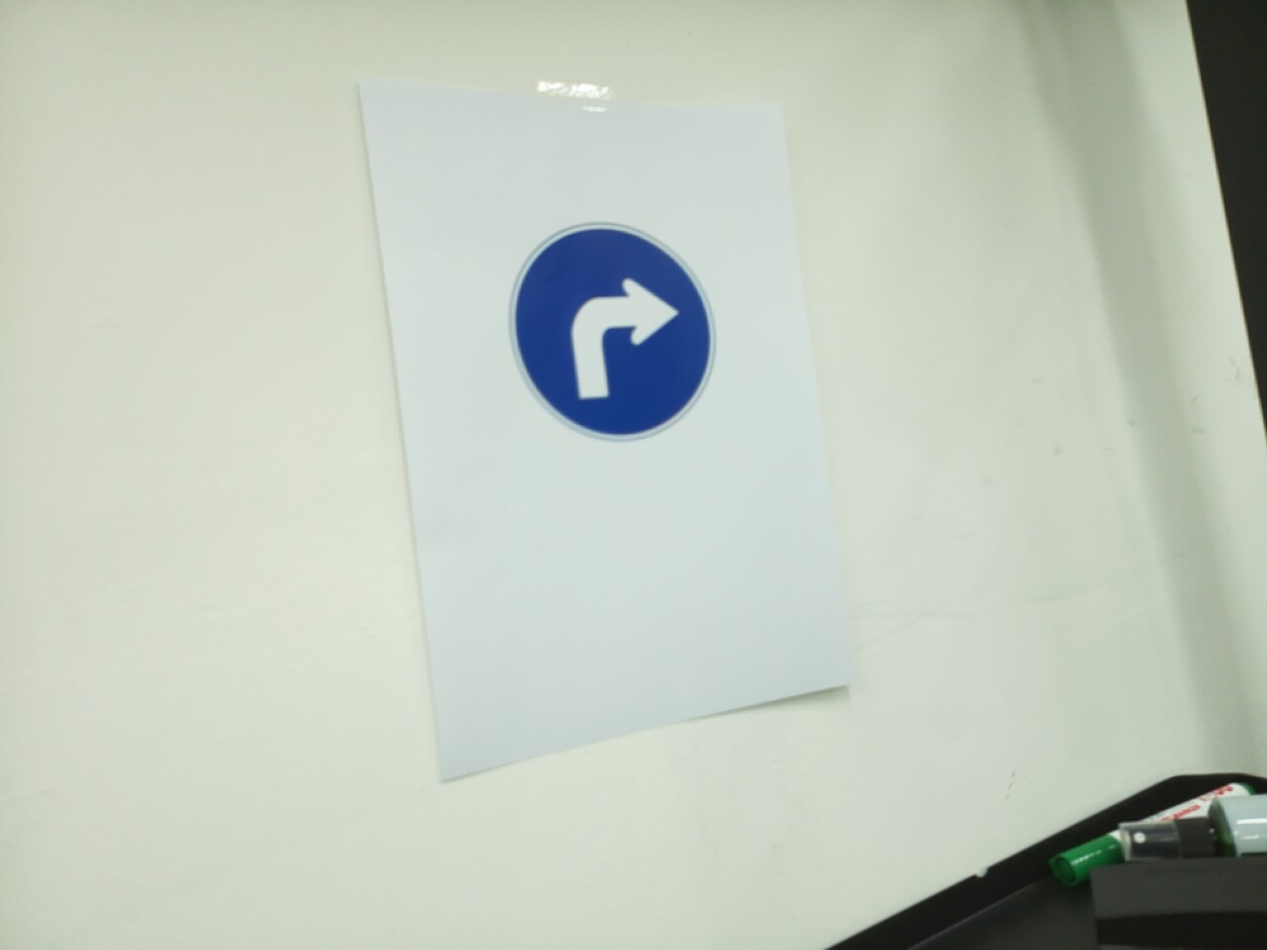right_turn: (508, 221, 719, 443)
